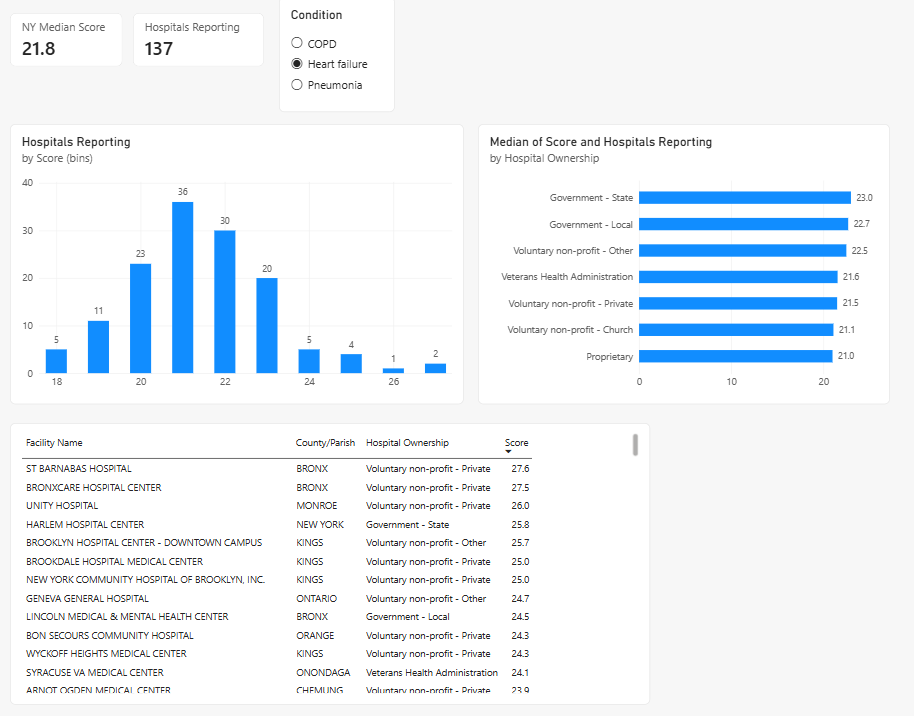

This screenshot's page, from the dashboard's own definition file:
{"tool":"powerbi","page":{"name":"Page 1","canvas":[1920,1080],"ordinal":0},"visuals":[{"type":"listSlicer","fields":{"Values":["Merge1.Condition"]},"box":[412.9,20.4,169.2,167.8],"z":0},{"type":"cardVisual","fields":{"Data":["Merge1.NY Median Score"]},"box":[20.4,43.8,164.9,78.8],"z":1000},{"type":"cardVisual","fields":{"Data":["Merge1.Hospitals Reporting"]},"box":[199.9,43.8,191.1,78.8],"z":2000},{"type":"clusteredColumnChart","fields":{"Category":["Merge1.Score (bins)"],"Y":["Merge1.Hospitals Reporting"]},"box":[20.4,205.7,662.4,408.5],"z":3000},{"type":"clusteredBarChart","fields":{"Category":["Merge1.Hospital_General_Information.Hospital Ownership"],"Y":["Median(Merge1.Score)"]},"box":[703.2,205.7,601.1,408.5],"z":4000},{"type":"tableEx","fields":{"Values":["Merge1.Facility Name","Merge1.County/Parish","Merge1.Hospital_General_Information.Hospital Ownership","Merge1.Score"]},"box":[20.4,641.9,933.7,411.4],"z":5000}]}

Visuals, with their boxes on the page's 1920x1080 design canvas (x1, y1, x2, y2). These are canvas units, not pixel positions in the 914x716 screenshot, which may show the page scaled, cropped or inside an application window:
listSlicer - Merge1.Condition: x1=413, y1=20, x2=582, y2=188
cardVisual - Merge1.NY Median Score: x1=20, y1=44, x2=185, y2=123
cardVisual - Merge1.Hospitals Reporting: x1=200, y1=44, x2=391, y2=123
clusteredColumnChart - Merge1.Score (bins) x Merge1.Hospitals Reporting: x1=20, y1=206, x2=683, y2=614
clusteredBarChart - Merge1.Hospital_General_Information.Hospital Ownership x Median(Merge1.Score): x1=703, y1=206, x2=1304, y2=614
tableEx - Merge1.Facility Name x Merge1.County/Parish: x1=20, y1=642, x2=954, y2=1053
